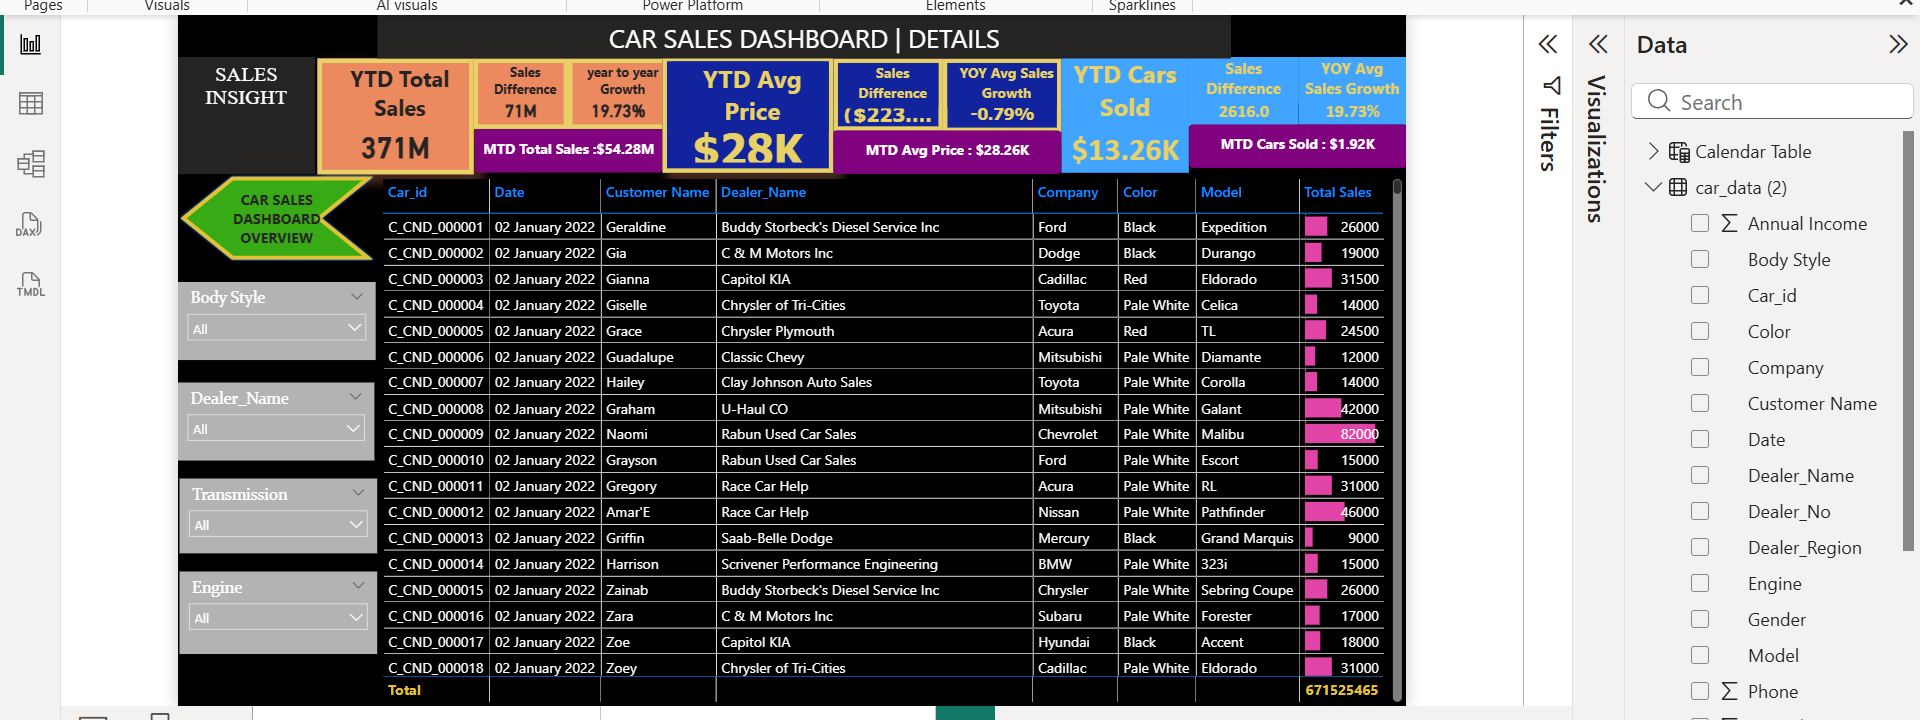

Layout of this report page (visuals, bound fields, positions):
{"tool":"powerbi","page":{"name":"CAR SALES DASHBOARD DETAILS","canvas":[1280,720],"ordinal":1},"visuals":[{"type":"card","title":"YTD Total Sales","fields":{"Values":["car_data.YTD Total Sales"]},"box":[145.4,45.3,162.6,120.4],"z":0},{"type":"card","title":"Sales Difference","fields":{"Values":["car_data.Sales Difference"]},"box":[307.9,45.3,98.5,73.5],"z":1000},{"type":"card","title":"year to year Growth","fields":{"Values":["car_data.YOY Growth"]},"box":[406.4,45.3,104.7,73.5],"z":2000},{"type":"card","fields":{"Values":["car_data.MTD KPI"]},"box":[309.5,118.8,195.4,45.3],"z":3000},{"type":"card","title":"YTD Avg Price","fields":{"Values":["car_data.YTD Avg Price"]},"box":[504.8,43.8,178.2,120.4],"z":4000},{"type":"card","title":"Sales Difference","fields":{"Values":["car_data.Avg Price Diff"]},"box":[683,45.3,114.1,75],"z":5000},{"type":"card","title":"YOY Avg Sales Growth","fields":{"Values":["car_data.YOY Avg Price Growth"]},"box":[797.1,45.3,123.5,76.6],"z":6000},{"type":"card","fields":{"Values":["car_data.MTD Avg Price KPI"]},"box":[683,120.4,237.6,45.3],"z":7000},{"type":"card","title":"YTD Cars Sold","fields":{"Values":["car_data.YTD Cars Sold"]},"box":[920.6,43.8,132.9,120.4],"z":8000},{"type":"card","title":"Sales Difference","fields":{"Values":["car_data.Cars Sold Diff"]},"box":[1053.5,43.8,114.1,71.9],"z":9000},{"type":"card","title":"YOY Avg Sales Growth","fields":{"Values":["car_data.YTY Car Sold Growth"]},"box":[1167.6,43.8,112.5,70.3],"z":10000},{"type":"card","fields":{"Values":["car_data.MTD Cars Sold KPI"]},"box":[1053.5,114.1,226.6,45.3],"z":11000},{"type":"slicer","fields":{"Values":["car_data.Body Style"]},"box":[0,344.4,206.3,81.3],"z":12000},{"type":"slicer","fields":{"Values":["car_data.Dealer_Name"]},"box":[1.6,438.2,204.8,61],"z":13000},{"type":"slicer","fields":{"Values":["car_data.Transmission"]},"box":[0,514.7,206.3,61],"z":14000},{"type":"slicer","fields":{"Values":["car_data.Engine"]},"box":[1.6,591.3,206.3,61],"z":15000},{"type":"textbox","box":[207.9,0,889.3,45.3],"z":16000},{"type":"tableEx","fields":{"Values":["car_data.Car_id","car_data.Date","car_data.Customer Name","car_data.Dealer_Name","car_data.Company","car_data.Color","car_data.Model","Sum(car_data.Price ($))"]},"box":[207.9,159.4,1072.2,561.1],"z":17000},{"type":"textbox","box":[0,43.8,142.8,121.9],"z":18000},{"type":"pageNavigator","box":[0,165.7,206.3,170.4],"z":19000}]}

Visuals, with their boxes on the page's 1280x720 design canvas (x1, y1, x2, y2). These are canvas units, not pixel positions in the 1920x720 screenshot, which may show the page scaled, cropped or inside an application window:
"YTD Total Sales" card: <box>145,45,308,166</box>
"Sales Difference" card: <box>308,45,406,119</box>
"year to year Growth" card: <box>406,45,511,119</box>
card - car_data.MTD KPI: <box>310,119,505,164</box>
"YTD Avg Price" card: <box>505,44,683,164</box>
"Sales Difference" card: <box>683,45,797,120</box>
"YOY Avg Sales Growth" card: <box>797,45,921,122</box>
card - car_data.MTD Avg Price KPI: <box>683,120,921,166</box>
"YTD Cars Sold" card: <box>921,44,1054,164</box>
"Sales Difference" card: <box>1054,44,1168,116</box>
"YOY Avg Sales Growth" card: <box>1168,44,1280,114</box>
card - car_data.MTD Cars Sold KPI: <box>1054,114,1280,159</box>
slicer - car_data.Body Style: <box>0,344,206,426</box>
slicer - car_data.Dealer_Name: <box>2,438,206,499</box>
slicer - car_data.Transmission: <box>0,515,206,576</box>
slicer - car_data.Engine: <box>2,591,208,652</box>
textbox: <box>208,0,1097,45</box>
tableEx - car_data.Car_id x car_data.Date: <box>208,159,1280,720</box>
textbox: <box>0,44,143,166</box>
pageNavigator: <box>0,166,206,336</box>
